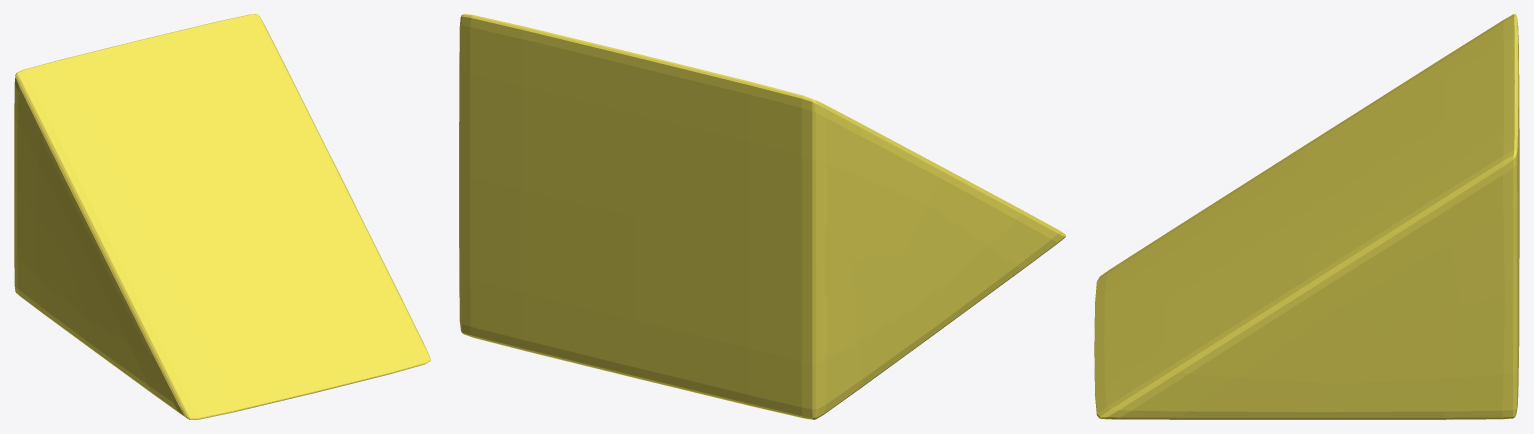
Rendered from block_yellow.glb.
3 views of the same model, side by side, from view 1: azimuth 30°, elevation 25°; view 2: azimuth 150°, elevation 25°; view 3: azimuth 270°, elevation 25° (orthographic). The views are drawn at different scales.
Visible parts, largest first — view 1: block_yellow.001; view 2: block_yellow.001; view 3: block_yellow.001.
Part boxes in pixels (x1,y1,x2,y2): block_yellow.001: (14, 14, 430, 419); block_yellow.001: (459, 14, 1065, 419); block_yellow.001: (1094, 14, 1519, 419).
Size of the model in its own units: 0.3996 by 0.3438 by 0.4912.
